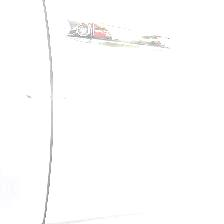door_dent: (3, 76, 221, 110)
